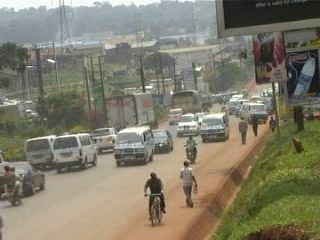Car: (0, 158, 48, 200), (90, 126, 123, 152), (149, 128, 178, 153), (173, 112, 201, 137), (165, 106, 183, 126), (195, 110, 211, 127)
Motorcycle: (0, 165, 26, 207), (182, 136, 199, 167)
